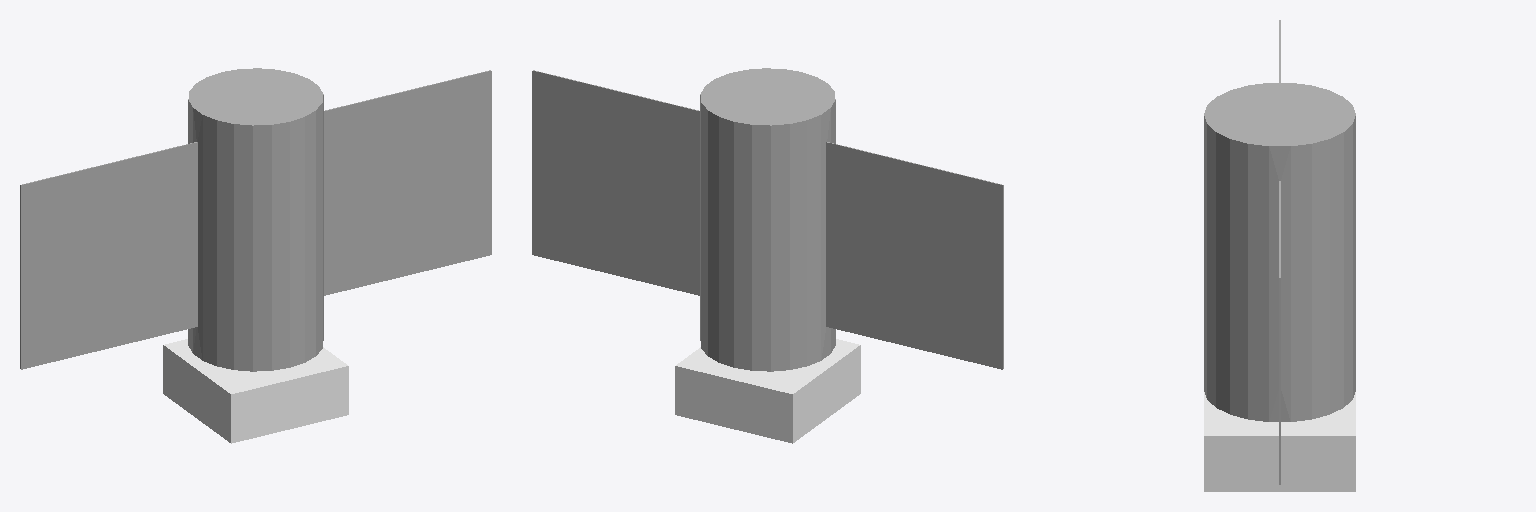
The robot description file, URDF, robot "float1":
<?xml version="1.0" ?>
<!-- =================================================================================== -->
<!-- |    This document was autogenerated by xacro from float1.urdf.xacro              | -->
<!-- |    EDITING THIS FILE BY HAND IS NOT RECOMMENDED                                 | -->
<!-- =================================================================================== -->
<robot name="float1">
  <!-- Specify some standard inertial calculations https://en.wikipedia.org/wiki/List_of_moments_of_inertia -->
  <!-- These make use of xacro's mathematical functionality -->
  <!-- Material Definitions -->
  <material name="white">
    <color rgba="1 1 1 0.5"/>
  </material>
  <material name="red">
    <color rgba="1 0 0 1"/>
  </material>
  <material name="orange">
    <color rgba="1 0.3 0.1 1"/>
  </material>
  <material name="blue">
    <color rgba="0.2 0.2 1 1"/>
  </material>
  <material name="black">
    <color rgba="0 0 0 1"/>
  </material>
  <material name="grey">
    <color rgba="0.5 0.5 0.5 1"/>
  </material>
  <!--xacro:include filename="gazebo_properties.xacro" /-->
  <!-- Specify some standard inertial calculations https://en.wikipedia.org/wiki/List_of_moments_of_inertia -->
  <!-- These make use of xacro's mathematical functionality -->
  <link name="base_footprint"/>
  <link name="chassis">
    <visual>
      <geometry>
        <box size="1 1 0.4"/>
      </geometry>
      <origin xyz="0 0 0"/>
      <material name="white"/>
    </visual>
    <collision>
      <geometry>
        <box size="1 1 0.4"/>
      </geometry>
      <origin xyz="0 0 0"/>
    </collision>
    <inertial>
      <origin rpy="0 0 0" xyz="0.0 0 0"/>
      <mass value="1"/>
      <inertia ixx="0.09666666666666668" ixy="0.0" ixz="0.0" iyy="0.09666666666666668" iyz="0.0" izz="0.16666666666666666"/>
    </inertial>
  </link>
  <joint name="base_joint" type="fixed">
    <parent link="base_footprint"/>
    <child link="chassis"/>
    <origin rpy="0 0 0" xyz="0 0 0.2"/>
  </joint>
  <link name="arm_base">
    <visual>
      <geometry>
        <cylinder length="0.1" radius="0.2"/>
      </geometry>
      <origin xyz="0 0 0"/>
      <material name="blue"/>
    </visual>
    <collision>
      <geometry>
        <cylinder length="0.1" radius="0.2"/>
      </geometry>
      <origin xyz="0 0 0"/>
    </collision>
    <inertial>
      <origin rpy="0 0 0" xyz="0.0 0 0"/>
      <mass value="0.5"/>
      <inertia ixx="0.005416666666666668" ixy="0.0" ixz="0.0" iyy="0.005416666666666668" iyz="0.0" izz="0.010000000000000002"/>
    </inertial>
  </link>
  <joint name="base_to_arm" type="continuous">
    <parent link="chassis"/>
    <child link="arm_base"/>
    <axis xyz="0 0 1"/>
    <origin xyz="0 0 0.25"/>
  </joint>
  <joint name="arm_joint1" type="fixed">
    <parent link="arm_base"/>
    <child link="arm_base_link"/>
    <origin xyz="0 0 0.05"/>
  </joint>
  <link name="arm_base_link">
    <inertial>
      <origin rpy="0 0 0" xyz="-1.058E-07 0.045195 -0.00033047"/>
      <mass value="0.19319"/>
      <inertia ixx="0.00016201" ixy="-1.0938E-11" ixz="-2.2636E-11" iyy="5.2247E-05" iyz="3.4329E-06" izz="0.00016791"/>
    </inertial>
    <visual>
      <origin rpy="0 0 0" xyz="0 0 0"/>
      <geometry>
        <mesh filename="package://float1/meshes/base_link.STL"/>
      </geometry>
      <material name="">
        <color rgba="0.75294 0.75294 0.75294 1"/>
      </material>
    </visual>
    <collision>
      <origin rpy="0 0 0" xyz="0 0 0"/>
      <geometry>
        <mesh filename="package://float1/meshes/base_link.STL"/>
      </geometry>
    </collision>
  </link>
  <link name="link_2">
    <inertial>
      <origin rpy="0 0 0" xyz="-3.1273E-06 -0.097466 -1.1102E-16"/>
      <mass value="0.51799"/>
      <inertia ixx="0.0014412" ixy="1.5788E-07" ixz="-1.4714E-20" iyy="0.00019901" iyz="-1.6943E-21" izz="0.0014474"/>
    </inertial>
    <visual>
      <origin rpy="0 0 0" xyz="0 0 0"/>
      <geometry>
        <mesh filename="package://float1/meshes/link_2.STL"/>
      </geometry>
      <material name="">
        <color rgba="0.69804 0.69804 0.69804 1"/>
      </material>
    </visual>
    <collision>
      <origin rpy="0 0 0" xyz="0 0 0"/>
      <geometry>
        <mesh filename="package://float1/meshes/link_2.STL"/>
      </geometry>
    </collision>
  </link>
  <joint name="joint_2" type="revolute">
    <origin rpy="-3.0921 0 -1.5708" xyz="0 0 0.08625"/>
    <parent link="arm_base_link"/>
    <child link="link_2"/>
    <axis xyz="1 0 0"/>
    <limit effort="1000" lower="0" upper="1.57" velocity="10"/>
  </joint>
  <!-- Realsense camera
    <xacro:arg name="use_nominal_extrinsics" default="false" />
    <xacro:include filename="$(find realsense2_description)/urdf/_d435i.urdf.xacro"/>
  
    <xacro:sensor_d435i parent="link_2" use_nominal_extrinsics="$(arg use_nominal_extrinsics)">
      <origin xyz="0 -0.19 -0.01" rpy="0 0 -1.57"/>
    </xacro:sensor_d435i> -->
</robot>

--- Render facts (derived) ---
3 views of the same robot in one strip: view 1: azimuth 30°, elevation 25°; view 2: azimuth 150°, elevation 25°; view 3: azimuth 270°, elevation 25° (orthographic).
Robot: float1 — 5 links, 4 joints (1 revolute, 1 continuous, 2 fixed); root link base_footprint; default pose: every joint at zero.
Visible links, largest first — view 1: arm_base_link, chassis; view 2: arm_base_link, chassis; view 3: arm_base_link, chassis.
Boxes of the visible links, x1,y1,x2,y2 form: arm_base_link: [20, 68, 491, 371]; chassis: [163, 339, 348, 443]; arm_base_link: [532, 68, 1003, 371]; chassis: [675, 339, 860, 443]; arm_base_link: [1204, 20, 1355, 484]; chassis: [1204, 392, 1355, 491].
Size in the robot's own frame: 4 by 1 by 2.5 metres.
Meshes: 2 distinct files referenced, 2 mesh visuals loaded (2 binary STL).